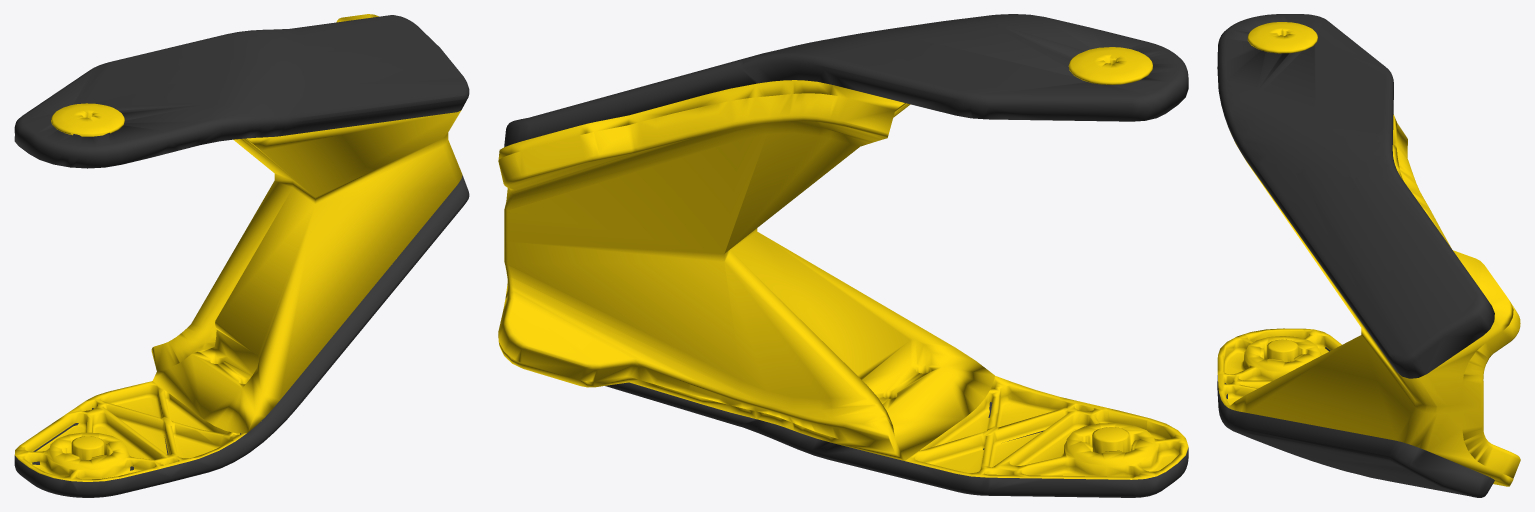
File: arm_link_fngr.obj
3 views of the same model, side by side, from view 1: azimuth 30°, elevation 25°; view 2: azimuth 150°, elevation 25°; view 3: azimuth 270°, elevation 25° (orthographic). The views are drawn at different scales.
Visible parts, largest first — view 1: arm0.link_fngr_BlackAbs, arm0.link_fngr_wrap; view 2: arm0.link_fngr_BlackAbs, arm0.link_fngr_wrap; view 3: arm0.link_fngr_wrap, arm0.link_fngr_BlackAbs.
Part boxes in pixels (bbox=[...]): arm0.link_fngr_BlackAbs: bbox=[14, 14, 462, 481]; arm0.link_fngr_wrap: bbox=[14, 15, 469, 497]; arm0.link_fngr_BlackAbs: bbox=[498, 47, 1188, 479]; arm0.link_fngr_wrap: bbox=[504, 14, 1188, 497]; arm0.link_fngr_wrap: bbox=[1217, 14, 1494, 497]; arm0.link_fngr_BlackAbs: bbox=[1217, 22, 1520, 486].
Bounding box in the file's own units: 0.1415 × 0.097 × 0.0771.
